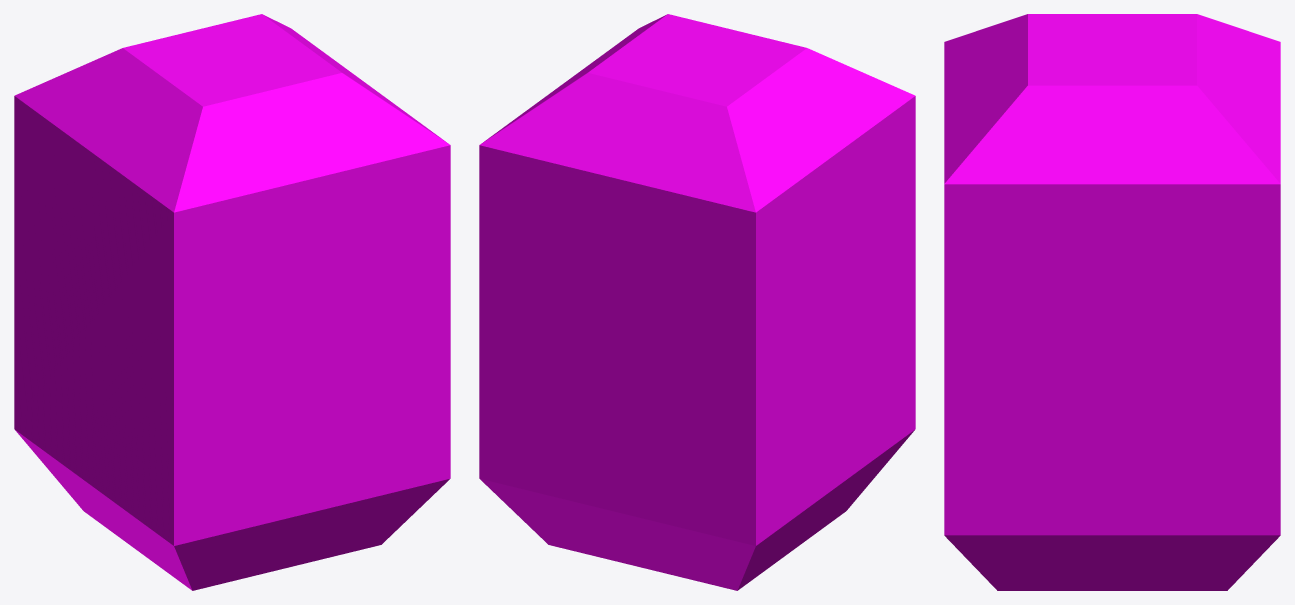
Rendered from PowerUpSpeed.fbx.
3 views of the same model, side by side, from view 1: azimuth 30°, elevation 25°; view 2: azimuth 150°, elevation 25°; view 3: azimuth 270°, elevation 25° (orthographic). The views are drawn at different scales.
Visible parts, largest first — view 1: Dimond; view 2: Dimond; view 3: Dimond.
Part boxes in pixels (bbox=[...]): Dimond: bbox=[14, 14, 450, 590]; Dimond: bbox=[479, 14, 915, 590]; Dimond: bbox=[944, 14, 1280, 590].
Size of the model in its own units: 1 by 1.62 by 1.
